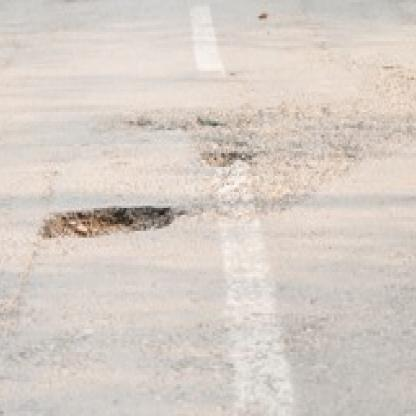pothole: (40, 203, 175, 238), (133, 110, 255, 135), (202, 146, 254, 169)
